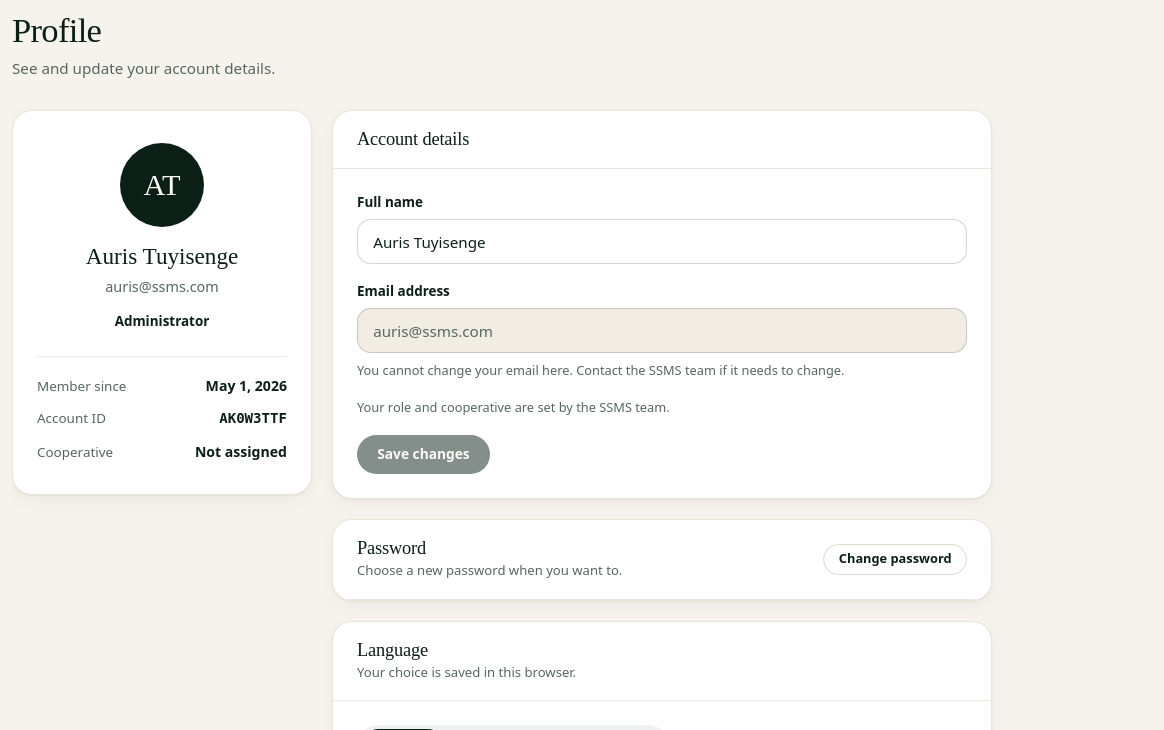
Scenario: Profile page › saves a new name, and only when it changed
Expected: the button "Save changes" is disabled, [357,436,490,474]
Replace the text in the field labelled "Full name" with "Auris T" at (662, 242), box [357,219,967,264]
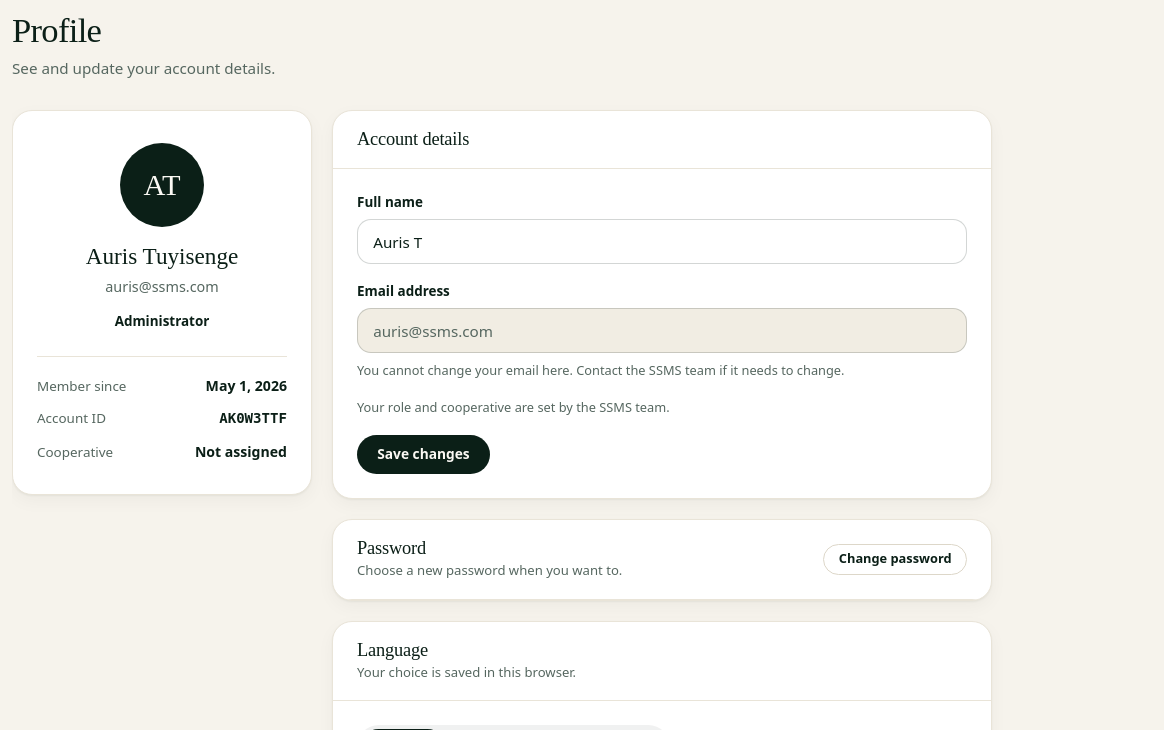
Expected: the button "Save changes" is enabled
Click the button "Save changes" at (423, 455), box [357,436,490,474]
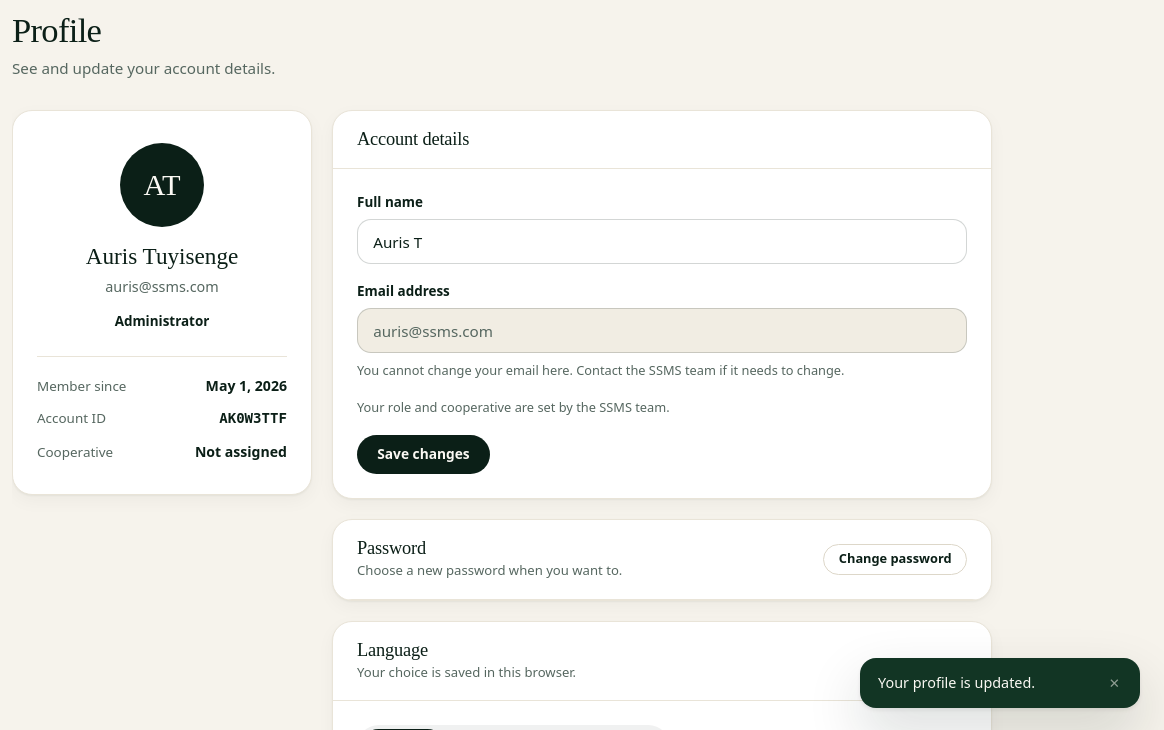
Expected: the text "Your profile is updated." is shown, [878,673,1035,692]
